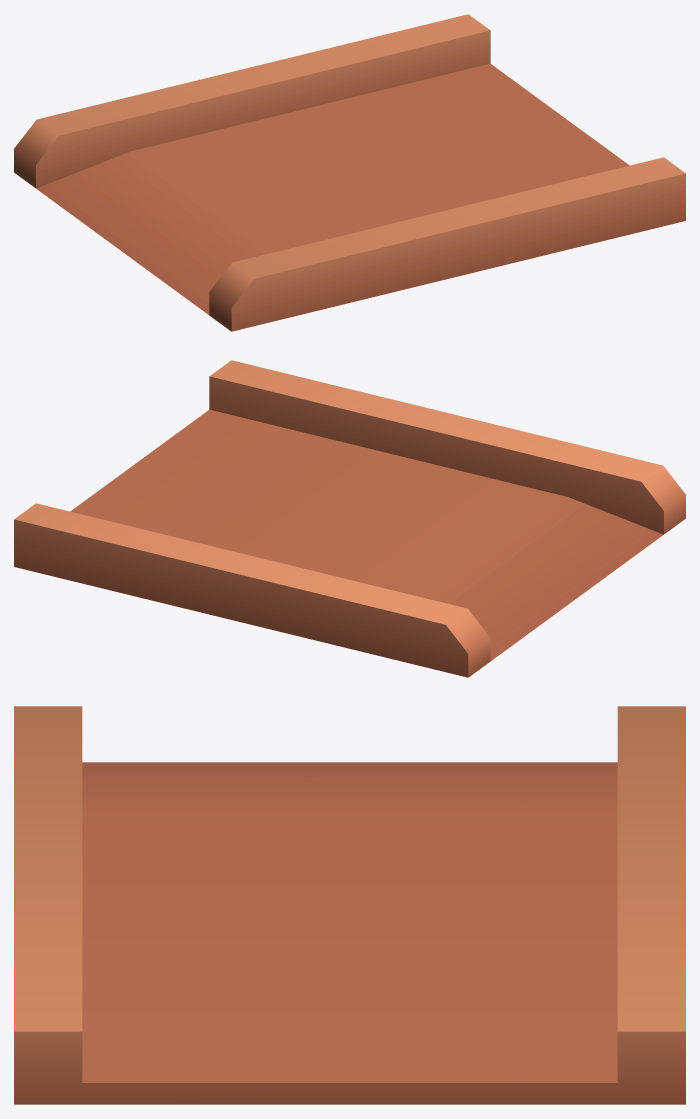
File: bridge-draw.glb
3 renders of one model, top to bottom at view 1: azimuth 30°, elevation 25°; view 2: azimuth 150°, elevation 25°; view 3: azimuth 270°, elevation 25°, orthographic. The views are drawn at different scales.
Parts seen in each view (by area): view 1: bridge-draw; view 2: bridge-draw; view 3: bridge-draw.
Part boxes in pixels (bbox=[...]): bridge-draw: bbox=[14, 14, 685, 331]; bridge-draw: bbox=[14, 360, 685, 677]; bridge-draw: bbox=[14, 706, 685, 1104].
Bounding box in the file's own units: 1 × 0.0999 × 0.8311.
1 material, 1 textured.
